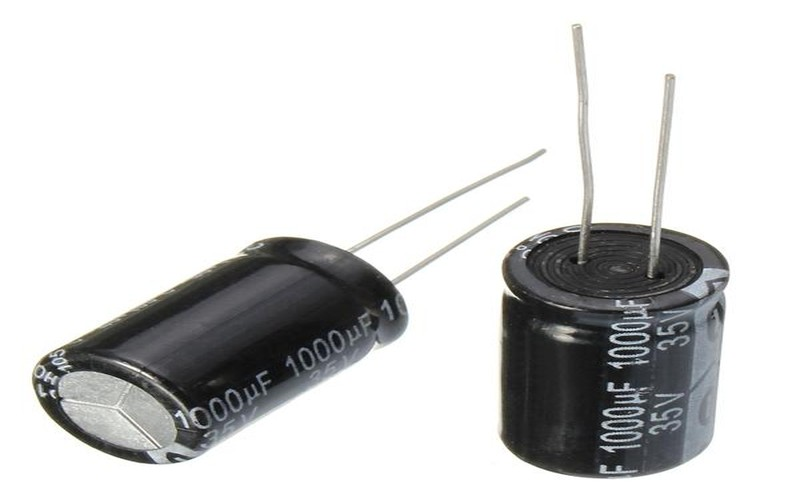Capacitor: (23, 107, 552, 471), (496, 12, 756, 487)
